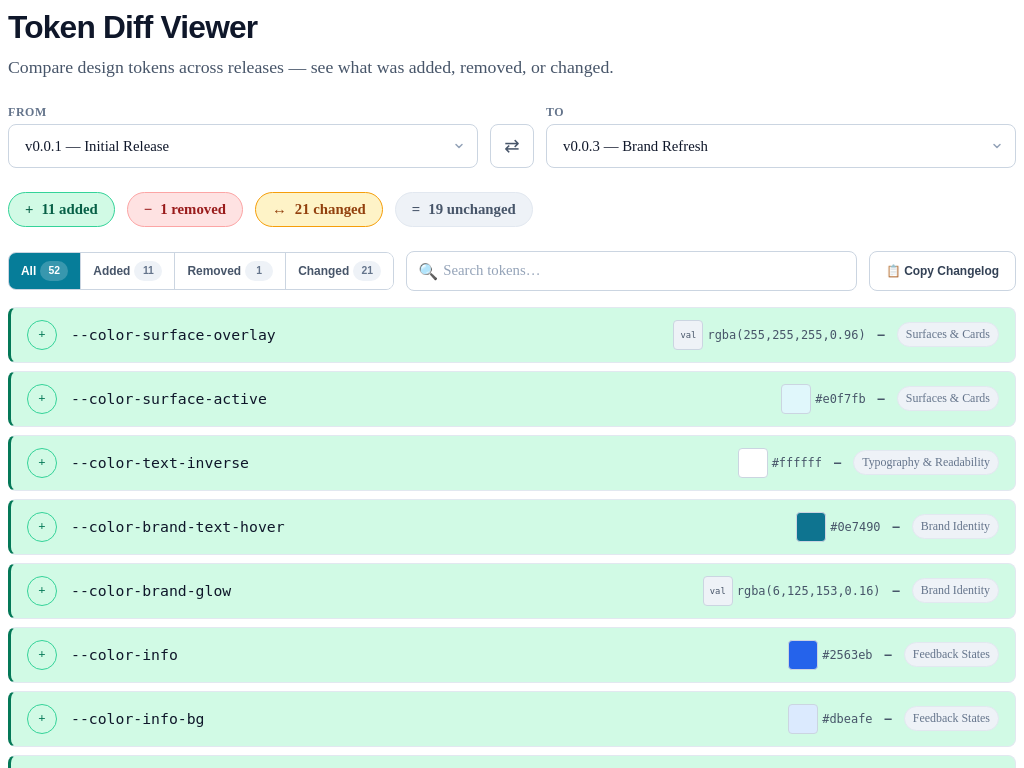
Test case: TokenDiffViewer — swap button › clicking swap reverses from and to values
The width and height of the screenshot is (1024, 768).
Click the button named "swap versions". click: [512, 146]
box: [490,124,534,168]
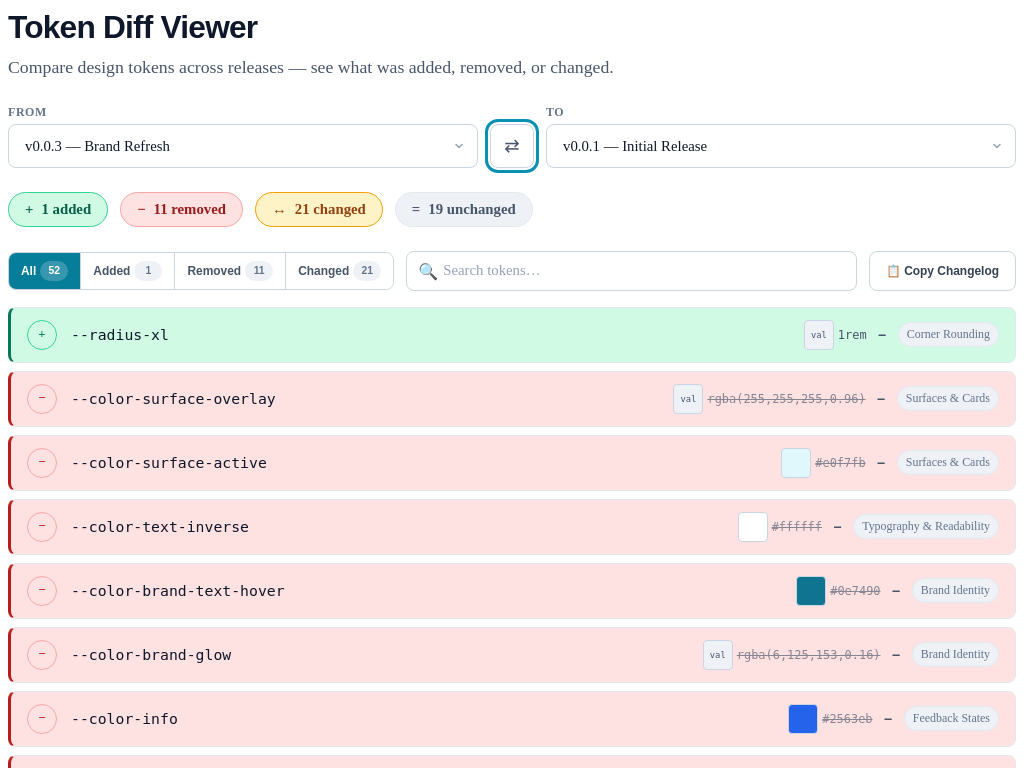
expect the dropdown named "Baseline version" shows "v0.0.3 — Brand Refresh": met, box [8,124,478,168]
expect the dropdown named "Target version" shows "v0.0.1 — Initial Release": met, box [546,124,1016,168]
